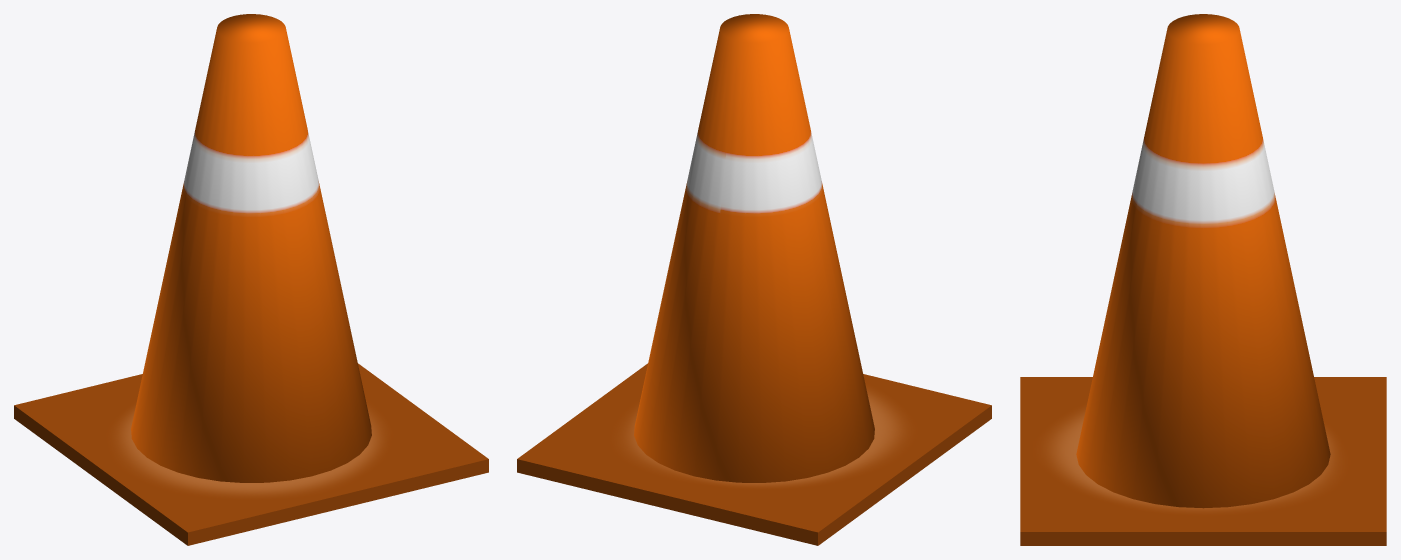
The picture shows the model from 3 angles, left to right: view 1: azimuth 30°, elevation 25°; view 2: azimuth 150°, elevation 25°; view 3: azimuth 270°, elevation 25°; orthographic projection. The views are drawn at different scales.
Visible parts, largest first — view 1: Pylon, Base; view 2: Pylon, Base; view 3: Pylon, Base.
Part boxes in pixels (x1,y1,x2,y2): Pylon: [131, 14, 371, 482]; Base: [14, 363, 488, 545]; Pylon: [634, 14, 874, 482]; Base: [517, 363, 991, 545]; Pylon: [1076, 14, 1330, 508]; Base: [1020, 377, 1386, 545].
Bounding box in the file's own units: 160 × 212 × 160.
2 materials, 2 textured.
